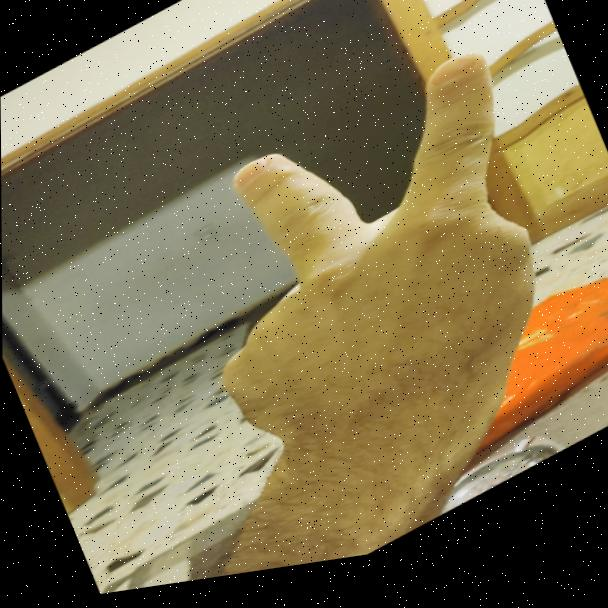two: (160, 34, 591, 496)
